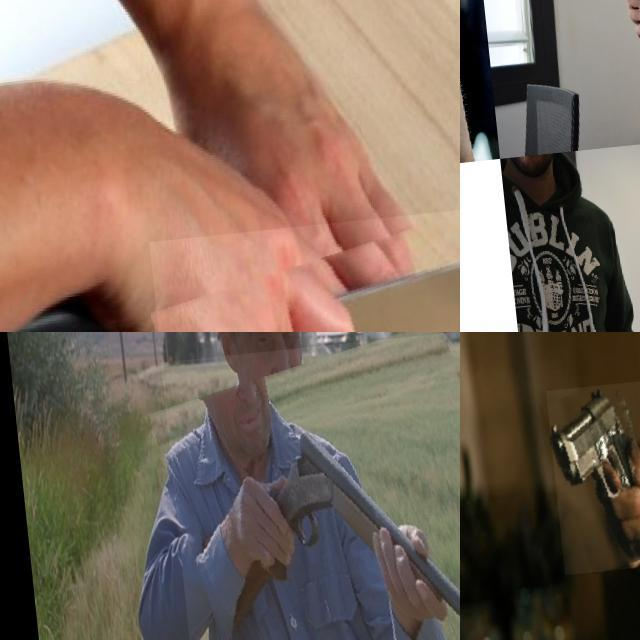-: (143, 208, 460, 332)
gun-knife-thesis - v11 Yolov5 augmented: (155, 338, 460, 640), (539, 387, 640, 579)
